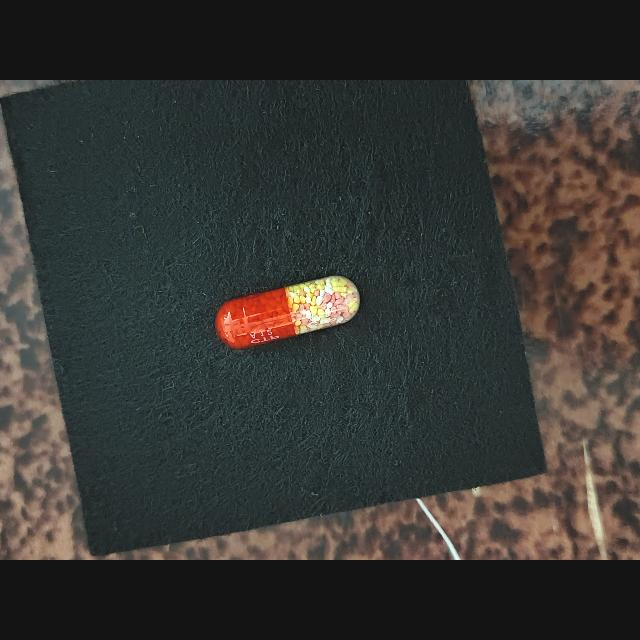Intact Capsule: (215, 275, 360, 349)
